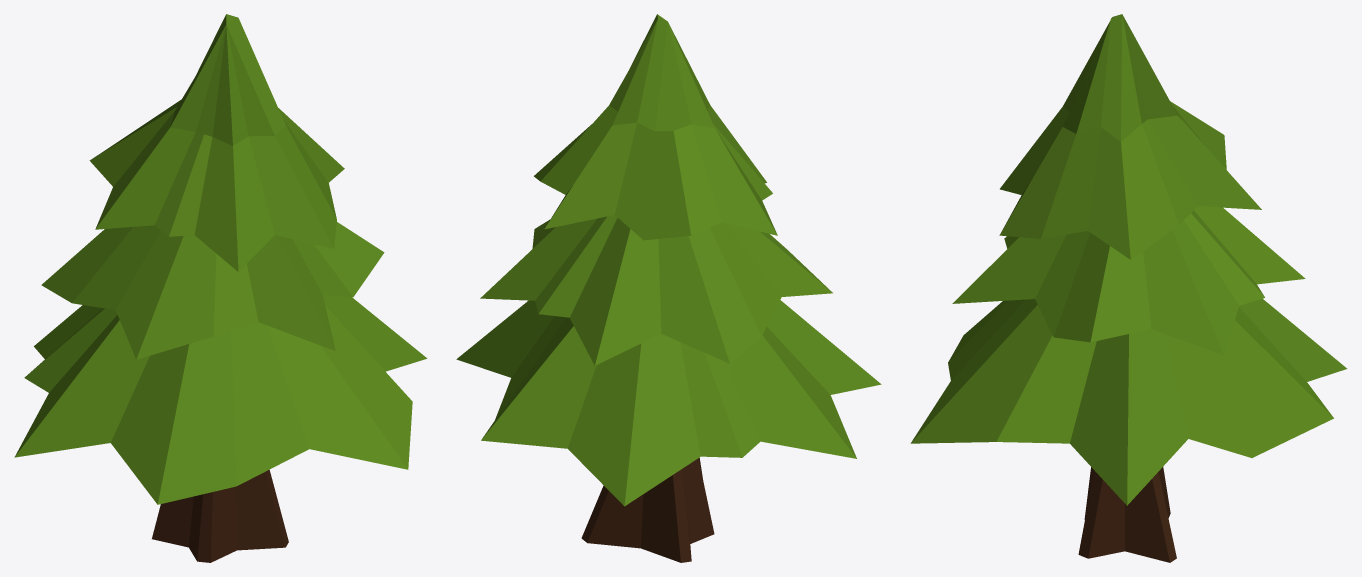
Rendered from Tree_3.glb.
The picture shows the model from 3 angles, left to right: view 1: azimuth 30°, elevation 25°; view 2: azimuth 150°, elevation 25°; view 3: azimuth 270°, elevation 25°; orthographic projection. The views are drawn at different scales.
Visible parts, largest first — view 1: Tree_03; view 2: Tree_03; view 3: Tree_03.
Part boxes in pixels (x1,y1,x2,y2): Tree_03: (14, 14, 427, 562); Tree_03: (456, 14, 881, 562); Tree_03: (910, 14, 1347, 562).
Bounding box in the file's own units: 1.45 × 1.78 × 1.35.
